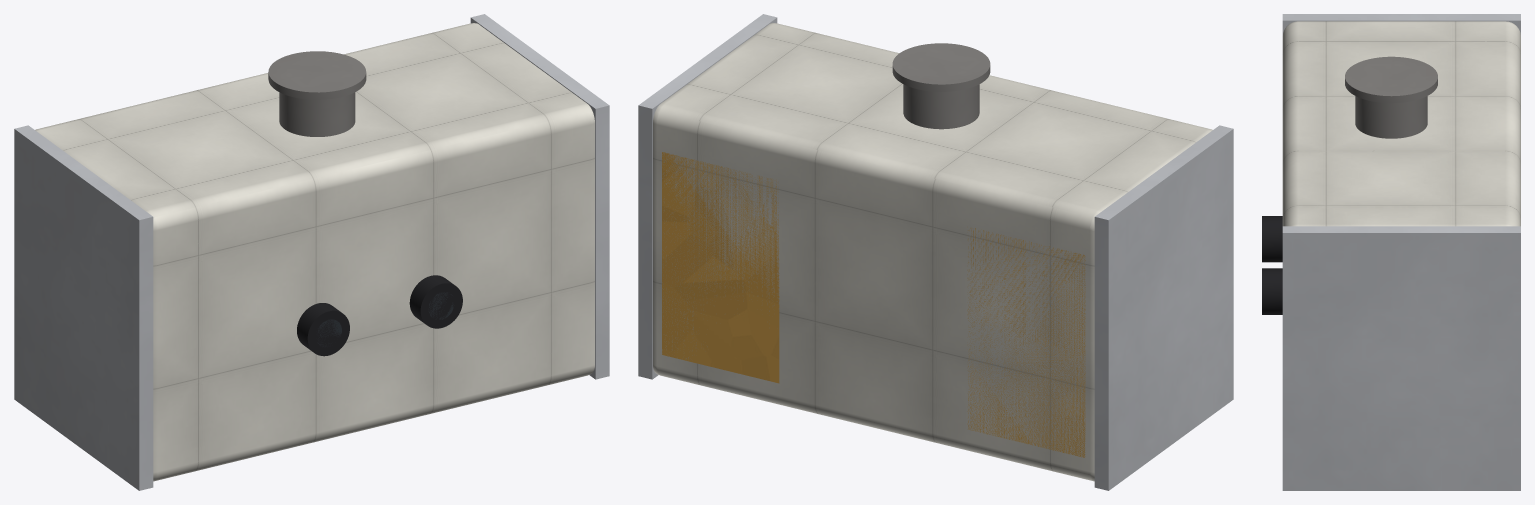
The model's file is rover21_control_core.glb.
The picture shows the model from 3 angles, left to right: view 1: azimuth 30°, elevation 25°; view 2: azimuth 150°, elevation 25°; view 3: azimuth 270°, elevation 25°; orthographic projection. The views are drawn at different scales.
Parts seen in each view (by area): view 1: body, frame, nav_mount, hazcams; view 2: body, frame, gold_panels, nav_mount; view 3: frame, body, nav_mount, hazcams.
Part boxes in pixels (bbox=[...]): body: bbox=[35, 23, 594, 481]; frame: bbox=[14, 14, 609, 490]; nav_mount: bbox=[268, 51, 366, 136]; hazcams: bbox=[297, 275, 462, 356]; body: bbox=[653, 23, 1212, 481]; frame: bbox=[638, 14, 1233, 490]; gold_panels: bbox=[662, 152, 1085, 457]; nav_mount: bbox=[892, 43, 990, 129]; frame: bbox=[1282, 14, 1520, 490]; body: bbox=[1282, 21, 1520, 226]; nav_mount: bbox=[1345, 56, 1437, 138]; hazcams: bbox=[1262, 216, 1282, 314].
Bounding box in the file's own units: 1 × 0.65 × 0.5.
Materials: 6 (4 with a texture image).
